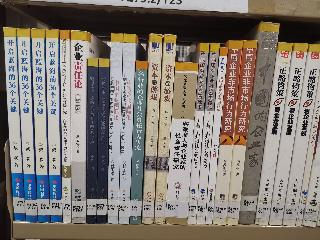book-spine: (264, 42, 311, 228), (237, 21, 279, 226), (281, 43, 320, 228), (255, 42, 292, 226), (225, 40, 258, 228), (164, 61, 198, 225), (213, 40, 243, 225), (203, 48, 229, 225), (2, 26, 25, 222), (195, 43, 219, 224), (16, 27, 38, 223), (154, 34, 176, 225), (141, 34, 163, 224), (187, 42, 209, 225), (44, 26, 64, 224), (30, 28, 49, 224), (70, 31, 88, 223), (105, 33, 123, 225), (117, 34, 135, 225), (130, 61, 147, 225), (96, 57, 110, 225), (59, 30, 70, 224), (86, 58, 98, 226)
